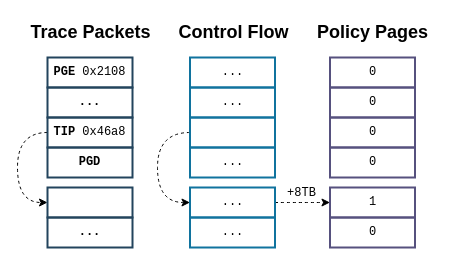
Image size: 455x265. Some labels were removed from this diagram. The centre of each missing label's shape, as x and y in pixels:
call *rax: the point at 232,132
PGE 0x46a8: the point at 89,202
